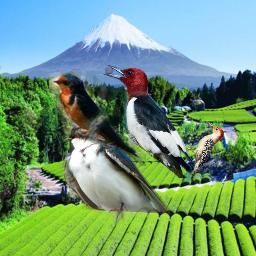Swallow: (61, 117, 171, 229), (49, 71, 146, 166)
Woodpecker: (102, 62, 197, 178), (184, 121, 224, 181)
